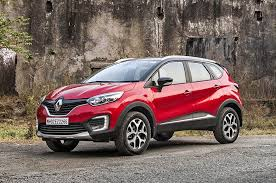car: (35, 56, 242, 154)
